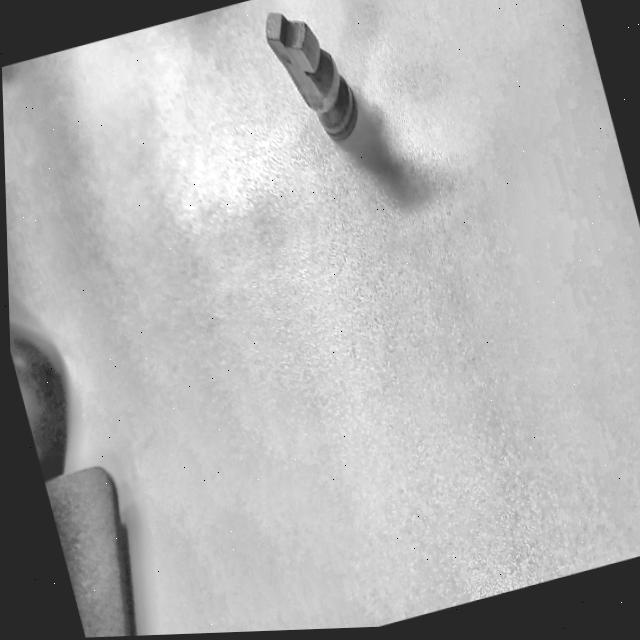black-knight: (253, 0, 371, 165)
